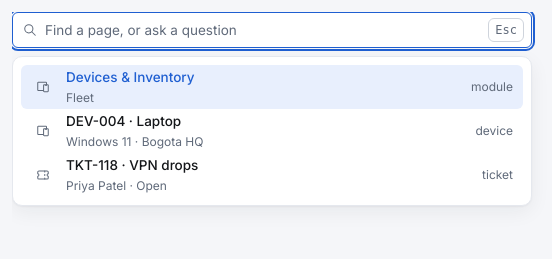
Test: CommandPalette › shows the design's empty state for no matches
Type "no such record anywhere" into the dropdown. click: (272, 30)
box: [12,12,532,48]
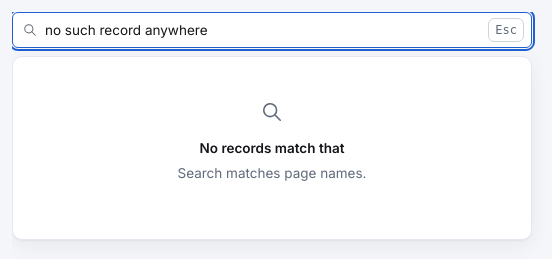
Result: the heading "No records match that" is shown at [200,140,344,156]
Result: the option is gone
